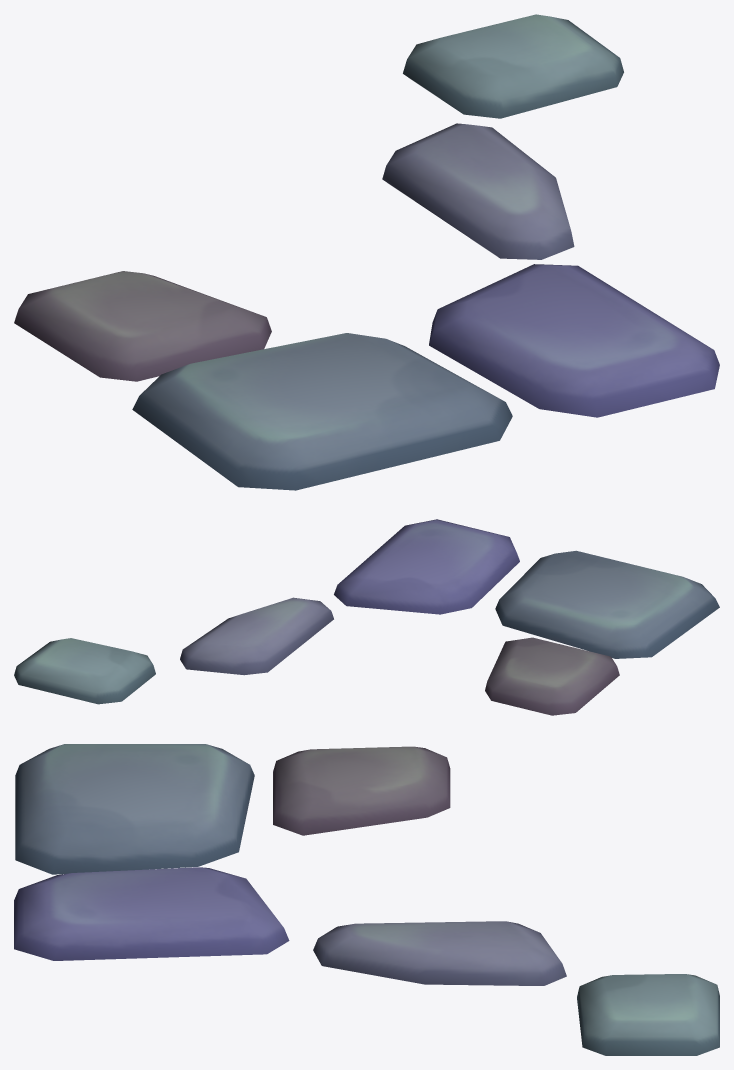
File: Pebble_01.FBX
3 views of the same model, one above another, from view 1: azimuth 30°, elevation 25°; view 2: azimuth 150°, elevation 25°; view 3: azimuth 270°, elevation 25° (orthographic). The views are drawn at different scales.
Parts seen in each view (by area): view 1: Pebble_01; view 2: Pebble_01; view 3: Pebble_01.
Boxes of the visible parts, x1,y1,x2,y2 form: Pebble_01: (14,14,719,490); Pebble_01: (14,519,719,715); Pebble_01: (14,744,719,1055).
Size of the model in its own units: 93.71 by 4.2 by 94.15.
